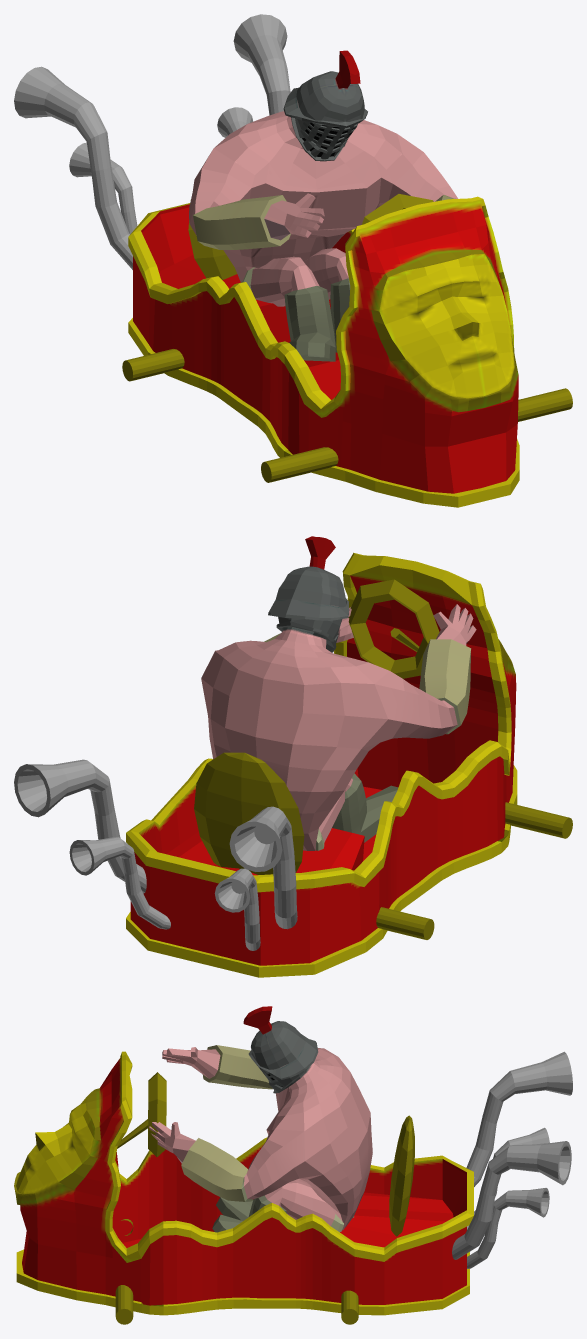
Rendered from gladiVacile_000583.obj.
3 renders of one model, top to bottom at view 1: azimuth 30°, elevation 25°; view 2: azimuth 150°, elevation 25°; view 3: azimuth 270°, elevation 25°, orthographic. The views are drawn at different scales.
Visible parts, largest first — view 1: GladiChasis_GladiChasisH, Gadiador_Gladiador_H.001, GladiTubos_GladiTubosH, GladiVolante_GladiVolanteH; view 2: GladiChasis_GladiChasisH, Gadiador_Gladiador_H.001, GladiTubos_GladiTubosH, GladiVolante_GladiVolanteH; view 3: GladiChasis_GladiChasisH, Gadiador_Gladiador_H.001, GladiTubos_GladiTubosH, GladiVolante_GladiVolanteH.
Boxes of the visible parts, left/top/right/bottom form: GladiChasis_GladiChasisH: left=128, top=196, right=519, bottom=507; Gadiador_Gladiador_H.001: left=189, top=50, right=458, bottom=361; GladiTubos_GladiTubosH: left=14, top=14, right=290, bottom=269; GladiVolante_GladiVolanteH: left=122, top=194, right=572, bottom=482; GladiChasis_GladiChasisH: left=126, top=552, right=517, bottom=977; Gadiador_Gladiador_H.001: left=201, top=536, right=476, bottom=850; GladiTubos_GladiTubosH: left=14, top=759, right=297, bottom=950; GladiVolante_GladiVolanteH: left=194, top=579, right=572, bottom=939; GladiChasis_GladiChasisH: left=14, top=1051, right=473, bottom=1315; Gadiador_Gladiador_H.001: left=149, top=1006, right=372, bottom=1232; GladiTubos_GladiTubosH: left=452, top=1051, right=572, bottom=1268; GladiVolante_GladiVolanteH: left=115, top=1072, right=414, bottom=1324.
Size of the model in its own units: 5.46 by 5.75 by 10.78.
